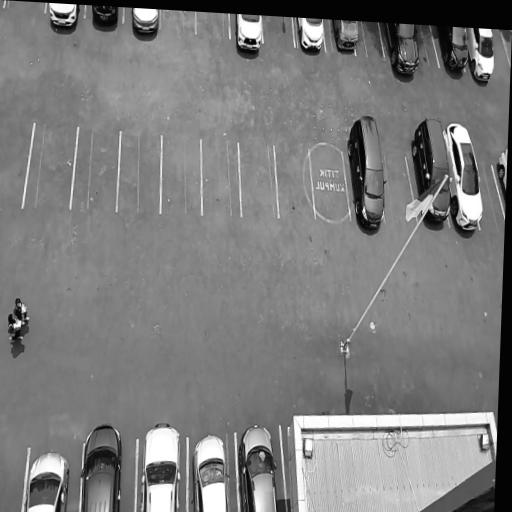Car: (344, 114, 388, 238), (442, 121, 486, 239), (409, 115, 453, 231), (77, 418, 128, 512), (137, 418, 184, 512), (236, 420, 283, 512), (189, 427, 234, 512), (23, 444, 71, 512), (383, 23, 423, 78), (434, 26, 472, 76), (466, 28, 495, 89), (234, 14, 262, 58), (330, 20, 361, 54), (295, 17, 325, 51), (45, 3, 81, 31), (130, 8, 160, 40), (89, 6, 120, 35), (497, 143, 508, 201)
Space Available: (22, 124, 78, 208), (71, 127, 120, 210), (116, 131, 160, 213), (160, 135, 202, 213), (201, 140, 241, 216), (274, 146, 315, 219), (309, 149, 351, 220), (238, 144, 278, 216), (0, 120, 33, 207), (383, 155, 416, 219), (477, 164, 505, 218), (262, 16, 295, 49), (416, 25, 440, 67), (195, 12, 230, 40), (358, 21, 384, 57), (161, 10, 196, 33), (493, 30, 511, 70), (4, 0, 44, 13)
